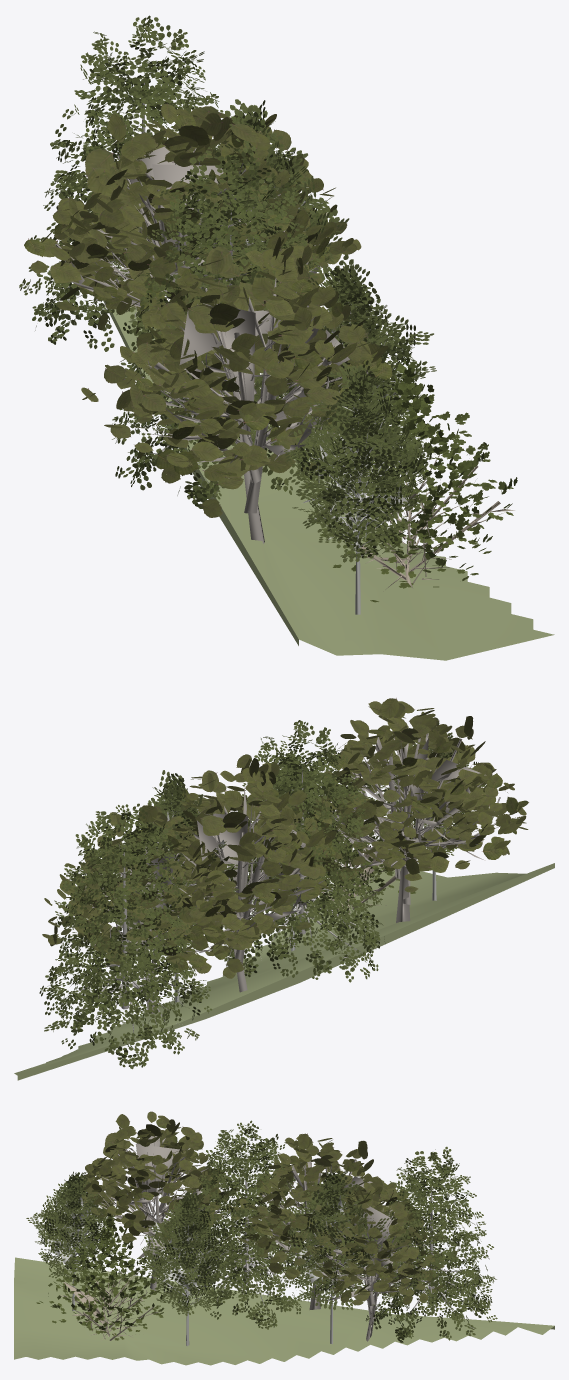
3 renders of one model, top to bottom at view 1: azimuth 30°, elevation 25°; view 2: azimuth 150°, elevation 25°; view 3: azimuth 270°, elevation 25°, orthographic. The views are drawn at different scales.
Parts seen in each view (by area): view 1: SW_V_trees_Tree_024_UNVERIFIEDspecies, SW_V_trees_Tree_014_UNVERIFIEDspecies, SW_ground_village_lawn_-3_4, SW_V_trees_Tree_029_UNVERIFIEDspecies, SW_V_trees_Tree_076_UNVERIFIEDspecies; view 2: SW_V_trees_Tree_024_UNVERIFIEDspecies, SW_V_trees_Tree_014_UNVERIFIEDspecies, SW_ground_village_lawn_-3_4, SW_V_trees_Tree_029_UNVERIFIEDspecies, SW_V_trees_Tree_076_UNVERIFIEDspecies; view 3: SW_V_trees_Tree_024_UNVERIFIEDspecies, SW_ground_village_lawn_-3_4, SW_V_trees_Tree_014_UNVERIFIEDspecies, SW_V_trees_Tree_029_UNVERIFIEDspecies, SW_V_trees_Tree_076_UNVERIFIEDspecies.
Part boxes in pixels (x1=…): SW_V_trees_Tree_024_UNVERIFIEDspecies: x1=24, y1=103, x2=392, y2=543; SW_V_trees_Tree_014_UNVERIFIEDspecies: x1=19, y1=15, x2=331, y2=508; SW_ground_village_lawn_-3_4: x1=103, y1=300, x2=554, y2=660; SW_V_trees_Tree_029_UNVERIFIEDspecies: x1=152, y1=99, x2=436, y2=614; SW_V_trees_Tree_076_UNVERIFIEDspecies: x1=305, y1=357, x2=517, y2=602; SW_V_trees_Tree_024_UNVERIFIEDspecies: x1=42, y1=698, x2=528, y2=1013; SW_V_trees_Tree_014_UNVERIFIEDspecies: x1=39, y1=720, x2=385, y2=1069; SW_ground_village_lawn_-3_4: x1=14, y1=863, x2=554, y2=1080; SW_V_trees_Tree_029_UNVERIFIEDspecies: x1=117, y1=721, x2=486, y2=1002; SW_V_trees_Tree_076_UNVERIFIEDspecies: x1=317, y1=766, x2=415, y2=924; SW_V_trees_Tree_024_UNVERIFIEDspecies: x1=78, y1=1111, x2=457, y2=1341; SW_ground_village_lawn_-3_4: x1=14, y1=1257, x2=554, y2=1365; SW_V_trees_Tree_014_UNVERIFIEDspecies: x1=186, y1=1120, x2=497, y2=1342; SW_V_trees_Tree_029_UNVERIFIEDspecies: x1=26, y1=1169, x2=389, y2=1346; SW_V_trees_Tree_076_UNVERIFIEDspecies: x1=36, y1=1213, x2=165, y2=1340.
Size of the model in its own units: 39.9 by 32.75 by 76.23.
Materials: 9 (4 with a texture image).
